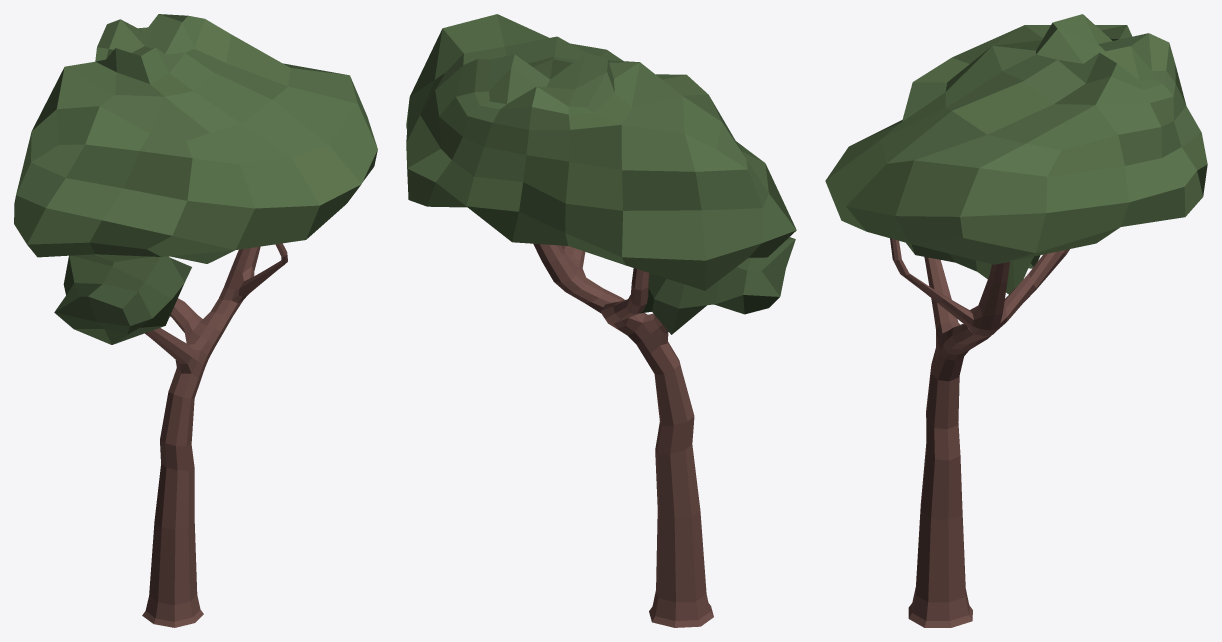
The model's file is apple_harvested.glb.
3 views of the same model, side by side, from view 1: azimuth 30°, elevation 25°; view 2: azimuth 150°, elevation 25°; view 3: azimuth 270°, elevation 25° (orthographic). The views are drawn at different scales.
Parts seen in each view (by area): view 1: Apple_Harvested; view 2: Apple_Harvested; view 3: Apple_Harvested.
Boxes of the visible parts, bbox=[...] form: Apple_Harvested: bbox=[14, 14, 377, 627]; Apple_Harvested: bbox=[406, 14, 796, 627]; Apple_Harvested: bbox=[825, 14, 1207, 627].
Size of the model in its own units: 1.8 by 2.76 by 1.58.
